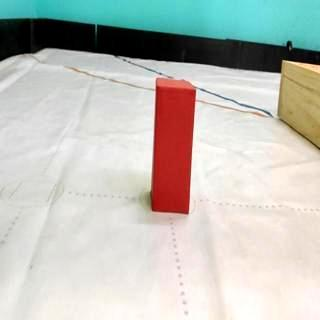redbox: (150, 77, 196, 215)
